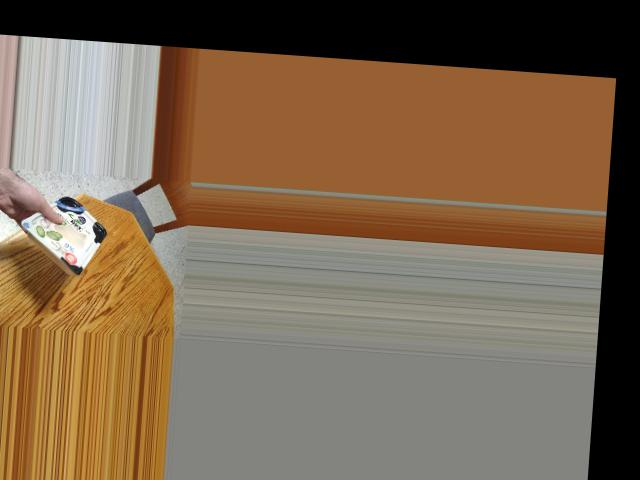cheese: (29, 202, 109, 272)
